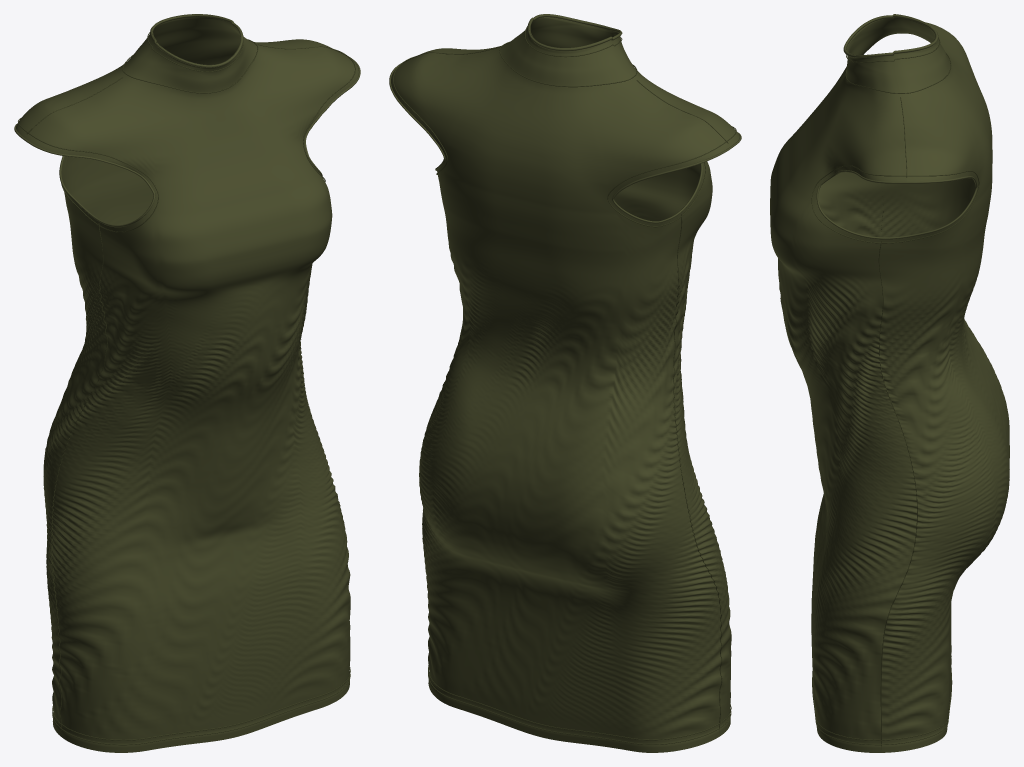
The model's file is vestido-mini-firerie_L.glb.
3 views of the same model, side by side, from view 1: azimuth 30°, elevation 25°; view 2: azimuth 150°, elevation 25°; view 3: azimuth 270°, elevation 25° (orthographic). The views are drawn at different scales.
Parts seen in each view (by area): view 1: vestido, canesu, sisa-borde, cuello-borde, pespunte; view 2: vestido, canesu, pespunte, sisa-borde, cuello-borde; view 3: vestido, canesu, pespunte (×2), sisa-borde, cuello-borde.
Part boxes in pixels (x1,y1,x2,y2): vestido: (43, 156, 350, 752); canesu: (16, 14, 358, 195); sisa-borde: (14, 123, 155, 227); cuello-borde: (150, 14, 243, 67); pespunte: (50, 223, 107, 733); vestido: (419, 159, 731, 752); canesu: (391, 14, 739, 198); pespunte: (673, 214, 722, 732); sisa-borde: (612, 132, 741, 223); cuello-borde: (527, 14, 622, 51); vestido: (770, 123, 1009, 752); canesu: (800, 14, 992, 185); pespunte (×2): (811, 165, 979, 749); sisa-borde: (816, 170, 977, 239); cuello-borde: (843, 14, 938, 57).
Size of the model in its own units: 0.4454 by 0.8761 by 0.2872.
